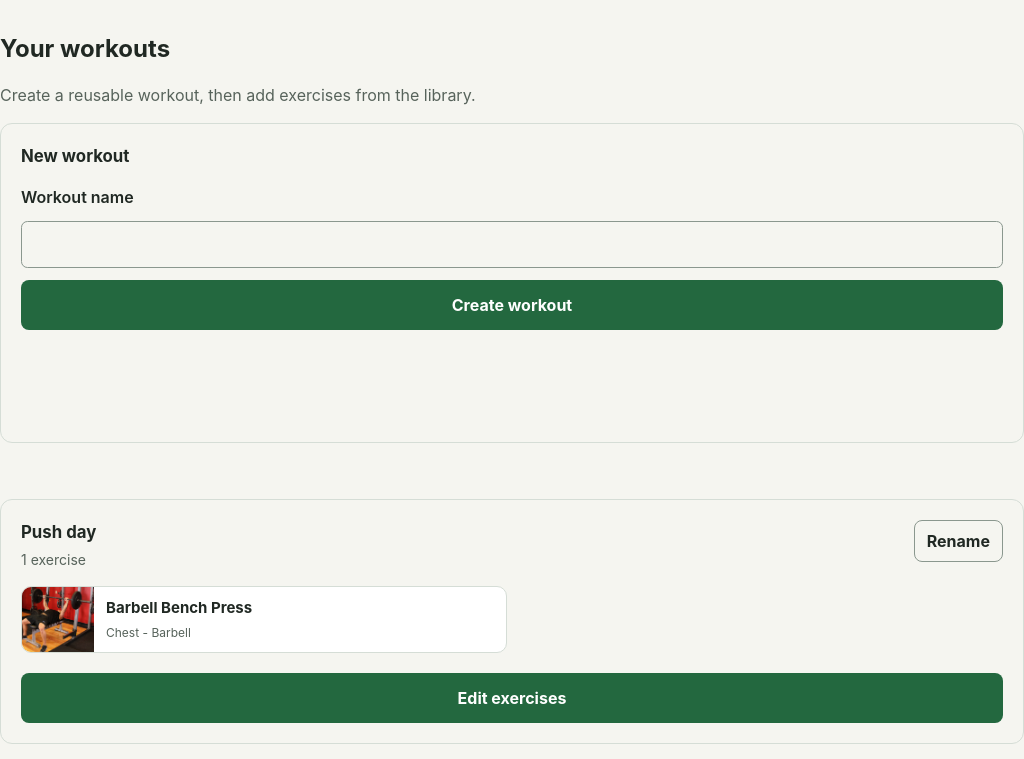
saved workouts › keeps the current selection after a failed removal
Click the button "Edit exercises" at (512, 698), box 21,673 -> 1003,723
(page scrolled)
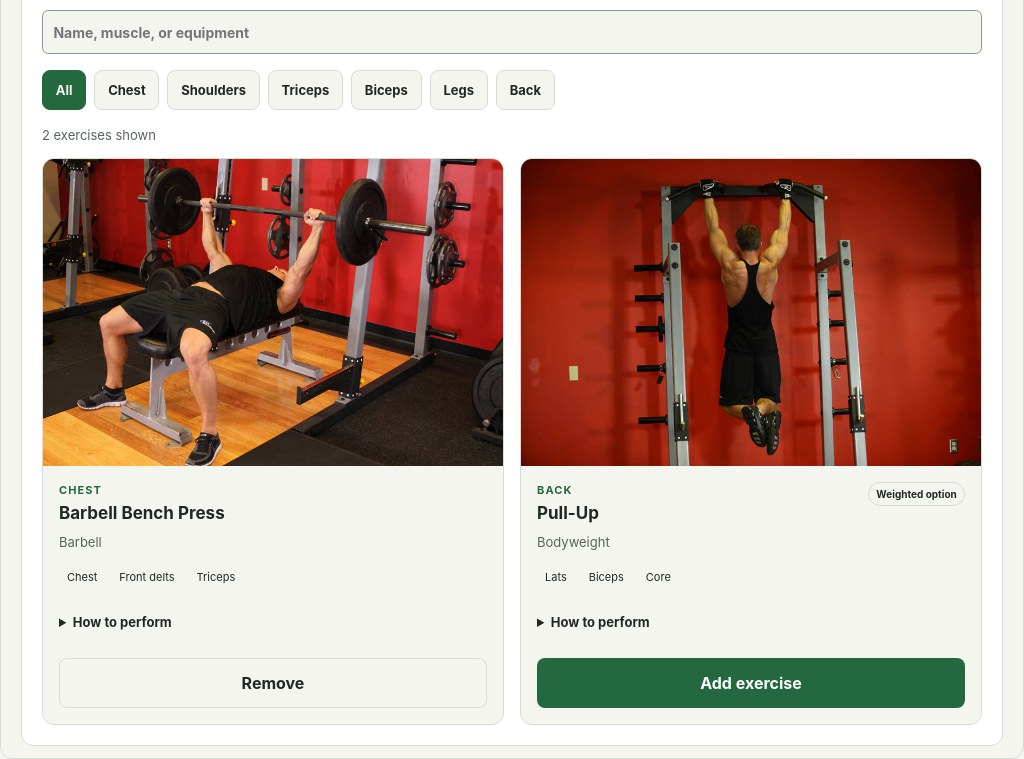
Click the button with aria-label "Remove Barbell Bench Press" at (273, 683), box 59,658 -> 487,708
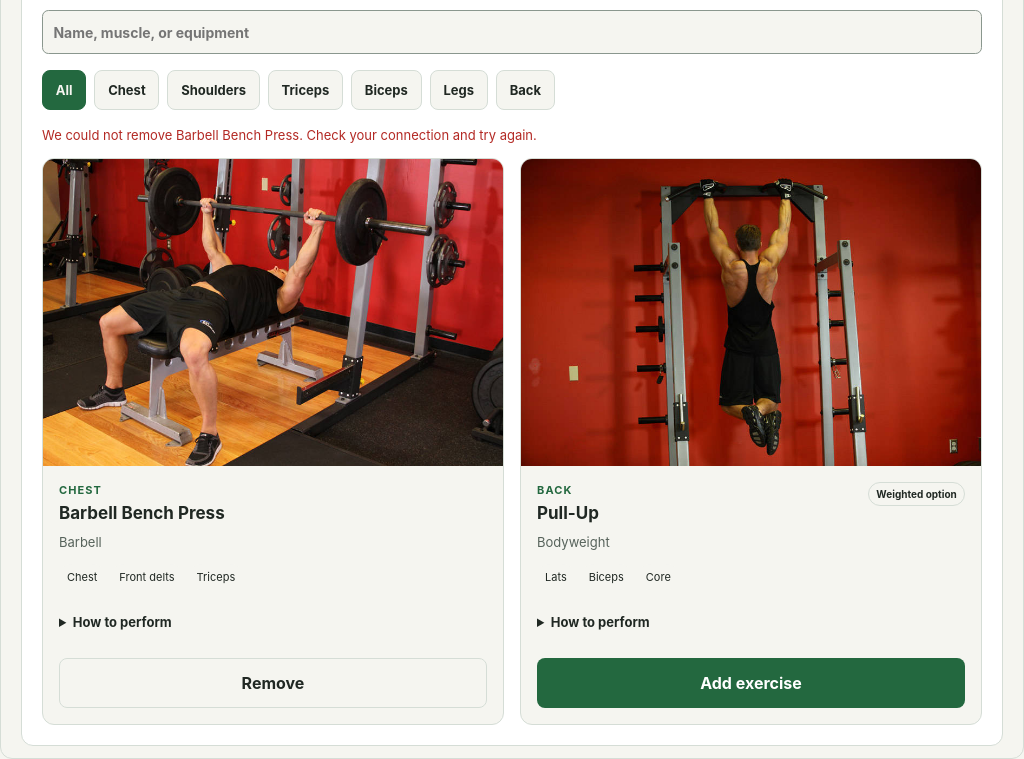
Expected: the button with aria-label "Remove Barbell Bench Press" is shown, 59,658 -> 487,708
Expected: the message shows "could not remove Barbell Bench Press", 42,127 -> 537,143
